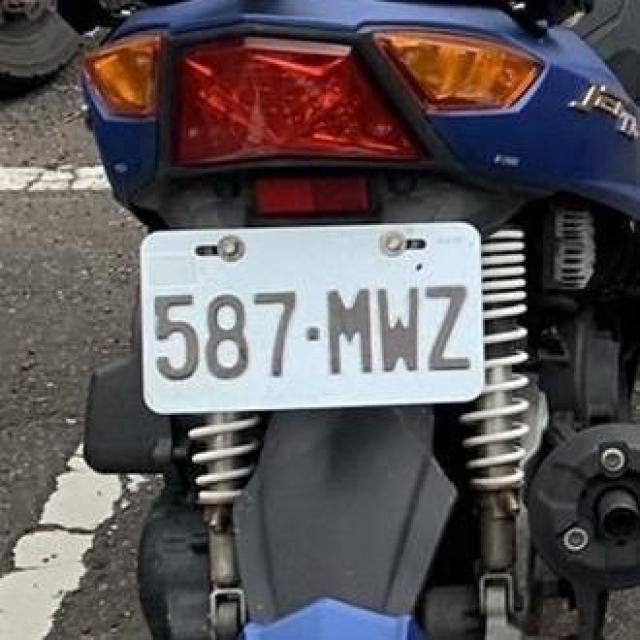W: (136, 219, 490, 415)
